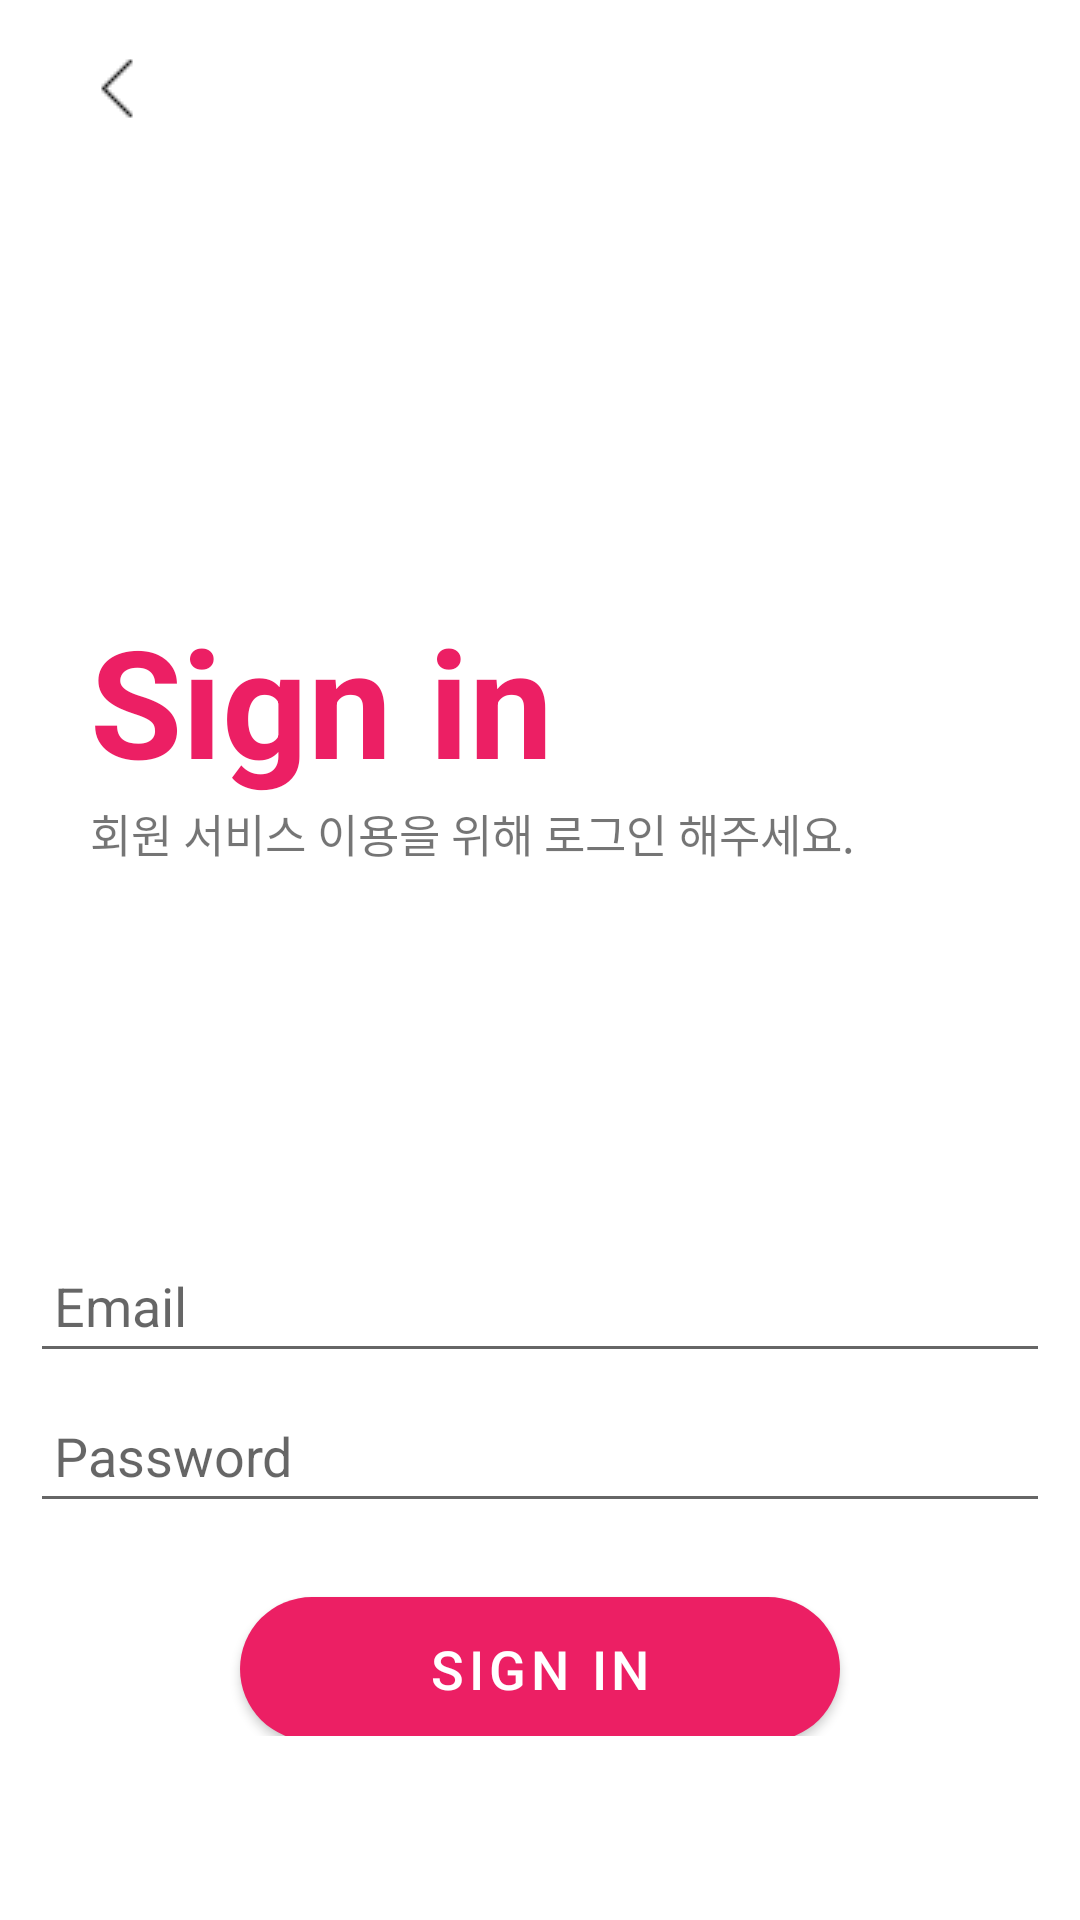

Named icons in this screenshot (1080 x 1920) and their bounding boxes, Rect(x1, y1, x2, y2):
chevron: Rect(101, 59, 133, 118)
